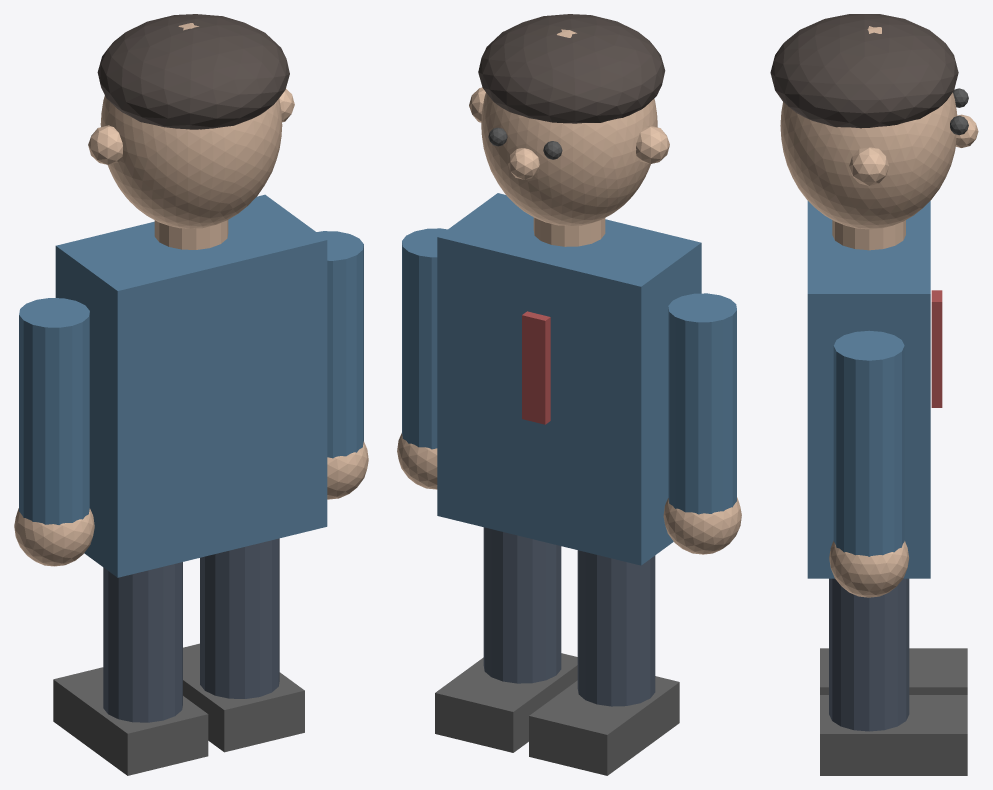
The model's file is director.glb.
The picture shows the model from 3 angles, left to right: view 1: azimuth 30°, elevation 25°; view 2: azimuth 150°, elevation 25°; view 3: azimuth 270°, elevation 25°; orthographic projection. The views are drawn at different scales.
Parts seen in each view (by area): view 1: torso, hair, armL, head, legL, legR, shoeL, armR, shoeR, handL, handR, neck (+1 smaller); view 2: torso, hair, armL, head, legL, legR, shoeL, armR, shoeR, tie, handL, handR (+3 smaller); view 3: torso, hair, armR, head, legR, shoeR, shoeL, handR, neck, tie, earR, nose.
Part boxes in pixels (bbox=[...]): torso: bbox=[55, 194, 327, 577]; hair: bbox=[97, 14, 289, 129]; armL: bbox=[19, 298, 89, 524]; head: bbox=[100, 23, 282, 228]; legL: bbox=[103, 562, 182, 722]; legR: bbox=[200, 538, 279, 698]; shoeL: bbox=[53, 667, 208, 775]; armR: bbox=[317, 231, 363, 458]; shoeR: bbox=[183, 643, 304, 752]; handL: bbox=[14, 508, 94, 566]; handR: bbox=[327, 441, 368, 499]; neck: bbox=[154, 220, 228, 249]; torso: bbox=[437, 193, 701, 565]; hair: bbox=[478, 14, 665, 123]; armL: bbox=[668, 293, 736, 514]; head: bbox=[481, 29, 657, 225]; legL: bbox=[577, 550, 655, 706]; legR: bbox=[483, 527, 561, 683]; shoeL: bbox=[529, 676, 679, 775]; armR: bbox=[402, 228, 447, 449]; shoeR: bbox=[435, 653, 577, 752]; tie: bbox=[522, 311, 550, 424]; handL: bbox=[663, 497, 741, 554]; handR: bbox=[397, 433, 437, 489]; torso: bbox=[807, 201, 930, 578]; hair: bbox=[770, 14, 958, 128]; armR: bbox=[833, 330, 904, 556]; head: bbox=[780, 26, 957, 229]; legR: bbox=[829, 578, 909, 731]; shoeR: bbox=[820, 695, 967, 775]; shoeL: bbox=[820, 648, 967, 694]; handR: bbox=[829, 541, 908, 597]; neck: bbox=[832, 220, 905, 250]; tie: bbox=[931, 290, 942, 407]; earR: bbox=[849, 147, 888, 185]; nose: bbox=[956, 114, 978, 147].
Size of the model in its own units: 1.28 by 2.52 by 0.6755.
